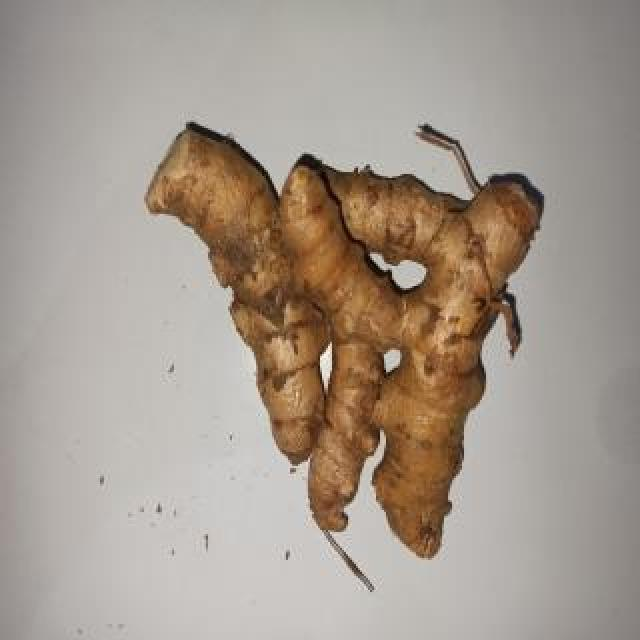ginger: (158, 135, 542, 550)
